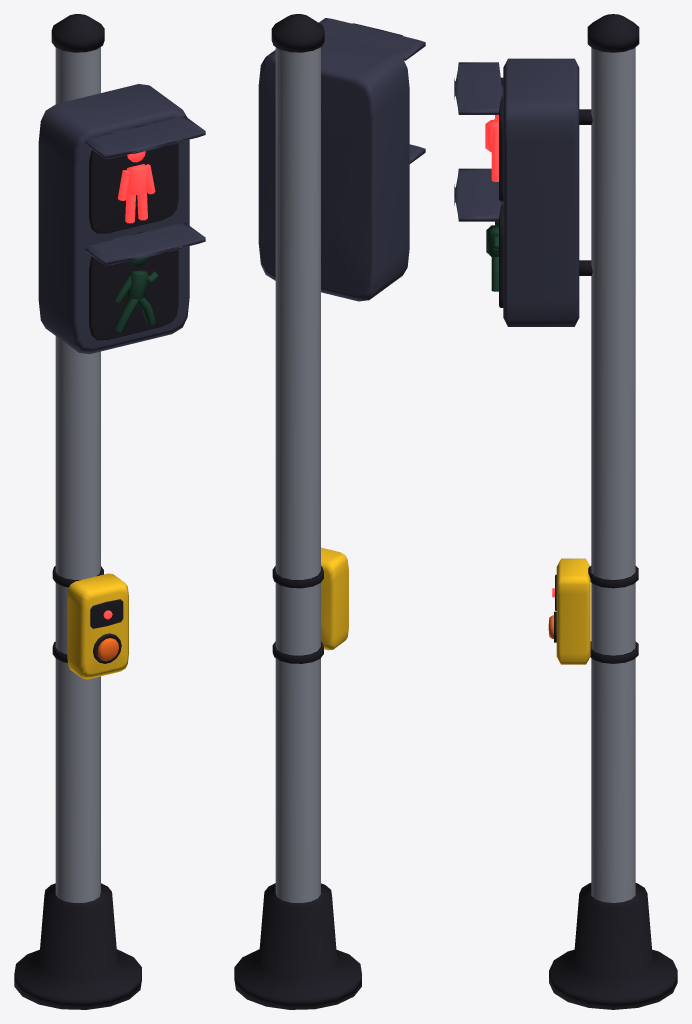
Rendered from ampel_fussgaenger.glb.
The picture shows the model from 3 angles, left to right: view 1: azimuth 30°, elevation 25°; view 2: azimuth 150°, elevation 25°; view 3: azimuth 270°, elevation 25°; orthographic projection.
Parts seen in each view (by area): view 1: Pole_1, Ped_Housing, PoleBase, Ped_Walk_Plate, Ped_Stand_Plate, ButtonBox, Ped_Walk_Hood, Ped_Stand_Hood, PoleCap, ButtonPanel, Ped_Stand_Body, Ped_Walk_Body; view 2: Pole_1, Ped_Housing, PoleBase, ButtonBox, Ped_Stand_Hood, PoleCap, StrapBot, StrapTop; view 3: Pole_1, Ped_Housing, PoleBase, ButtonBox, Ped_Stand_Hood, Ped_Walk_Hood, PoleCap, Ped_Stand_Plate.
Part boxes in pixels (x1,y1,x2,y2): Pole_1: (55,47,100,902); Ped_Housing: (38,84,189,354); PoleBase: (14,883,141,1009); Ped_Walk_Plate: (89,249,178,340); Ped_Stand_Plate: (89,143,178,233); ButtonBox: (67,573,128,679); Ped_Walk_Hood: (85,223,205,265); Ped_Stand_Hood: (85,116,205,159); PoleCap: (51,14,104,52); ButtonPanel: (90,599,123,628); Ped_Stand_Body: (127,164,147,194); Ped_Walk_Body: (126,270,147,299); Pole_1: (275,47,320,902); Ped_Housing: (258,35,409,301); PoleBase: (234,883,361,1009); ButtonBox: (321,547,348,650); Ped_Stand_Hood: (319,18,425,60); PoleCap: (271,14,324,52); StrapBot: (272,641,323,663); StrapTop: (272,566,323,588); Pole_1: (591,47,635,902); Ped_Housing: (503,58,579,326); PoleBase: (549,883,677,1009); ButtonBox: (556,558,590,664); Ped_Stand_Hood: (454,62,503,114); Ped_Walk_Hood: (454,168,503,221); PoleCap: (587,14,639,52); Ped_Stand_Plate: (499,77,503,201).
Size of the model in its own units: 0.3585 by 2.82 by 0.59.
